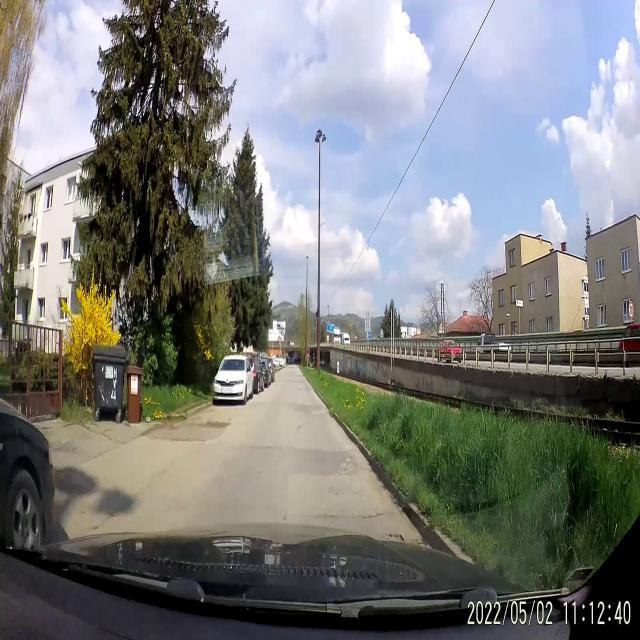Pothole: (336, 450, 358, 480), (316, 507, 341, 522), (358, 510, 386, 521), (382, 532, 405, 543), (294, 419, 305, 437)
